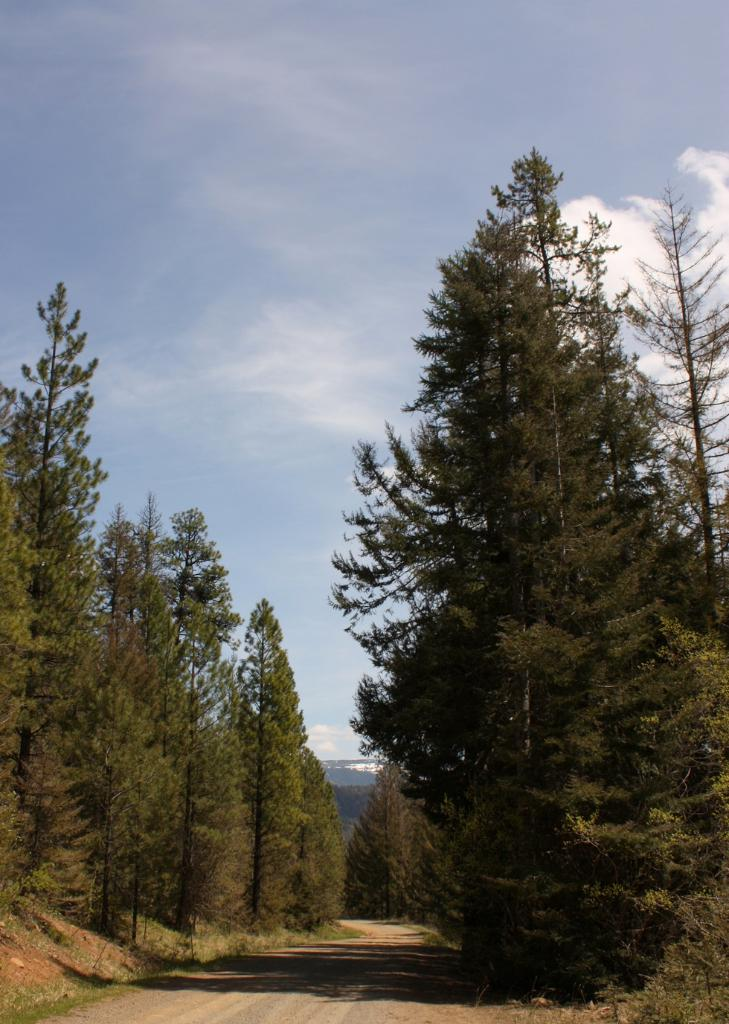tree: (326, 145, 729, 1006)
